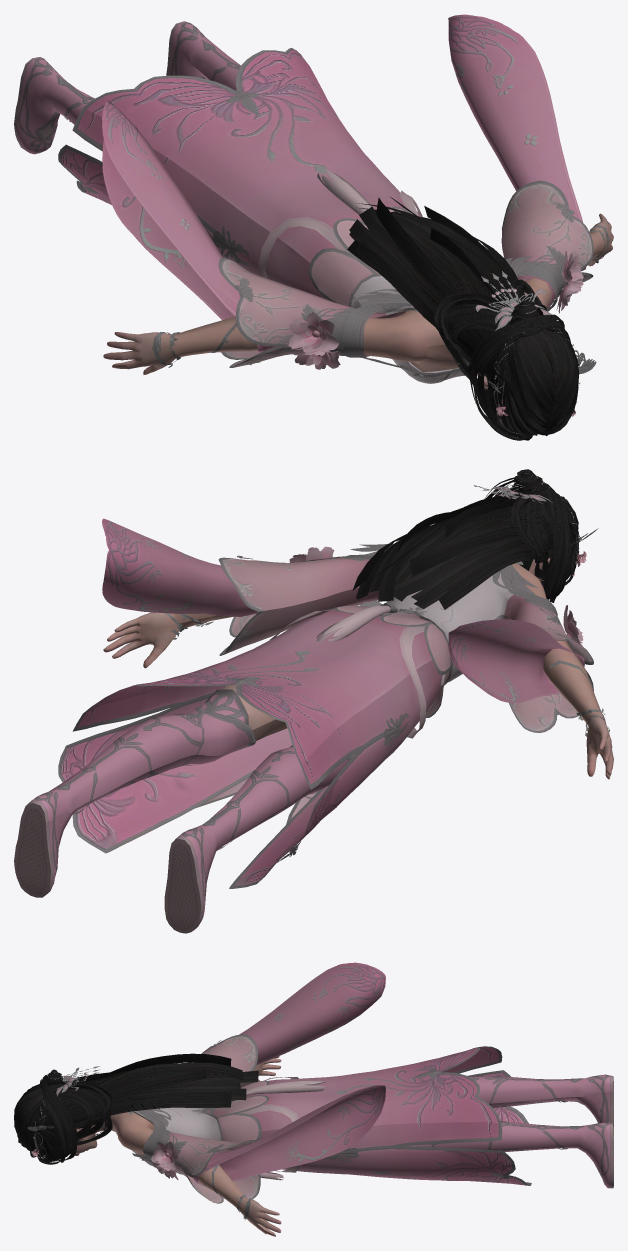
Rendered from model_PVP.obj.
3 views of the same model, one above another, from view 1: azimuth 30°, elevation 25°; view 2: azimuth 150°, elevation 25°; view 3: azimuth 270°, elevation 25° (orthographic). The views are drawn at different scales.
Visible parts, largest first — view 1: mesh_11_759293, mesh_07_519499, mesh_12_974740, mesh_13_1064901, mesh_05_425755, mesh_01_146671, mesh_08_642644, mesh_10_692986, mesh_00_123841; view 2: mesh_07_519499, mesh_11_759293, mesh_05_425755, mesh_12_974740, mesh_01_146671, mesh_13_1064901, mesh_08_642644, mesh_06_501732, mesh_10_692986, mesh_00_123841; view 3: mesh_07_519499, mesh_11_759293, mesh_12_974740, mesh_05_425755, mesh_13_1064901, mesh_01_146671, mesh_08_642644, mesh_10_692986.
Part boxes in pixels (x1=…): mesh_11_759293: x1=102, y1=14, x2=593, y2=383; mesh_07_519499: x1=58, y1=48, x2=422, y2=306; mesh_12_974740: x1=347, y1=197, x2=546, y2=406; mesh_13_1064901: x1=468, y1=300, x2=579, y2=440; mesh_05_425755: x1=14, y1=21, x2=240, y2=154; mesh_01_146671: x1=103, y1=213, x2=613, y2=374; mesh_08_642644: x1=242, y1=278, x2=551, y2=371; mesh_10_692986: x1=475, y1=288, x2=596, y2=432; mesh_00_123841: x1=152, y1=225, x2=609, y2=367; mesh_07_519499: x1=58, y1=603, x2=450, y2=888; mesh_11_759293: x1=102, y1=518, x2=593, y2=732; mesh_05_425755: x1=14, y1=689, x2=352, y2=933; mesh_12_974740: x1=352, y1=493, x2=555, y2=609; mesh_01_146671: x1=103, y1=612, x2=613, y2=779; mesh_13_1064901: x1=484, y1=469, x2=579, y2=602; mesh_08_642644: x1=512, y1=563, x2=585, y2=684; mesh_06_501732: x1=223, y1=684, x2=355, y2=755; mesh_10_692986: x1=474, y1=473, x2=598, y2=584; mesh_00_123841: x1=165, y1=613, x2=609, y2=736; mesh_07_519499: x1=192, y1=1046, x2=531, y2=1185; mesh_11_759293: x1=100, y1=962, x2=385, y2=1203; mesh_12_974740: x1=52, y1=1053, x2=258, y2=1149; mesh_05_425755: x1=405, y1=1074, x2=613, y2=1188; mesh_13_1064901: x1=14, y1=1069, x2=77, y2=1164; mesh_01_146671: x1=203, y1=1056, x2=281, y2=1236; mesh_08_642644: x1=100, y1=1112, x2=220, y2=1184; mesh_10_692986: x1=27, y1=1067, x2=88, y2=1157.
Bounding box in the file's own units: 87.22 × 37.88 × 134.
Materials: 14 (14 with a texture image).
